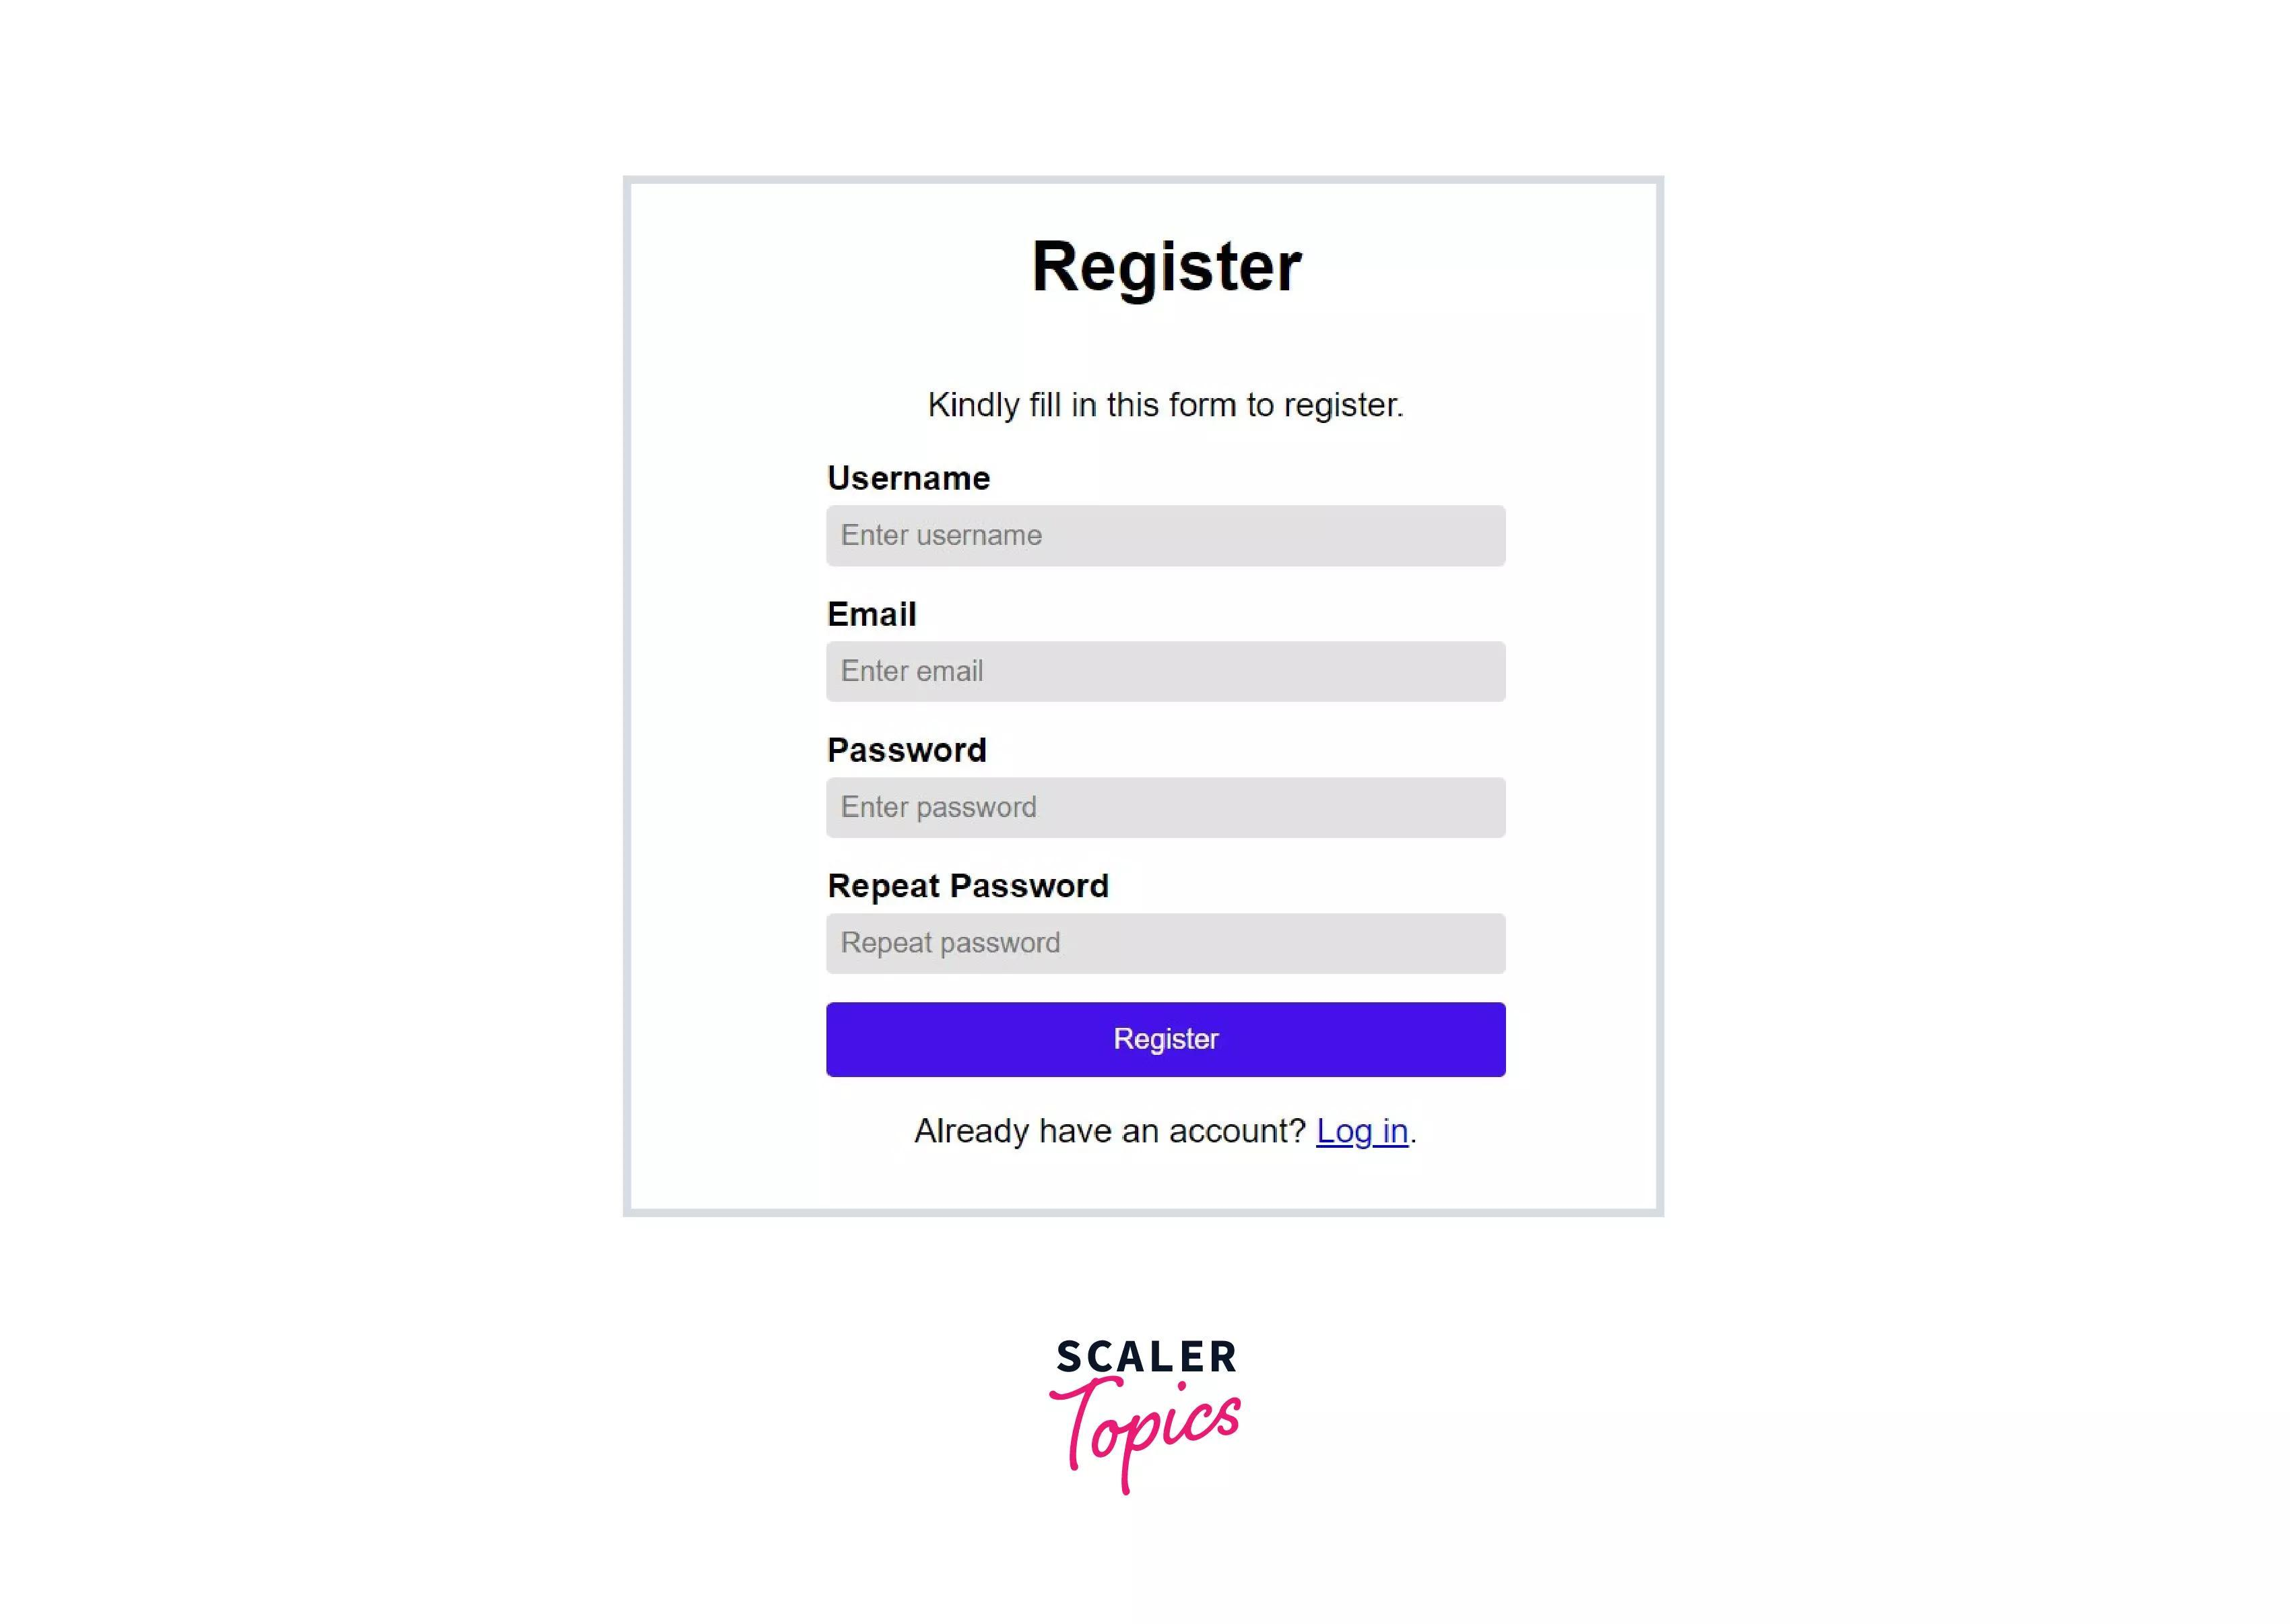button: (828, 1002, 1510, 1081)
input: (824, 910, 1506, 979), (828, 638, 1511, 705), (824, 501, 1510, 566), (828, 784, 1504, 844)
label: (1023, 216, 1318, 311), (821, 866, 1116, 907), (824, 729, 1000, 768), (828, 455, 1000, 494), (824, 596, 926, 631)
